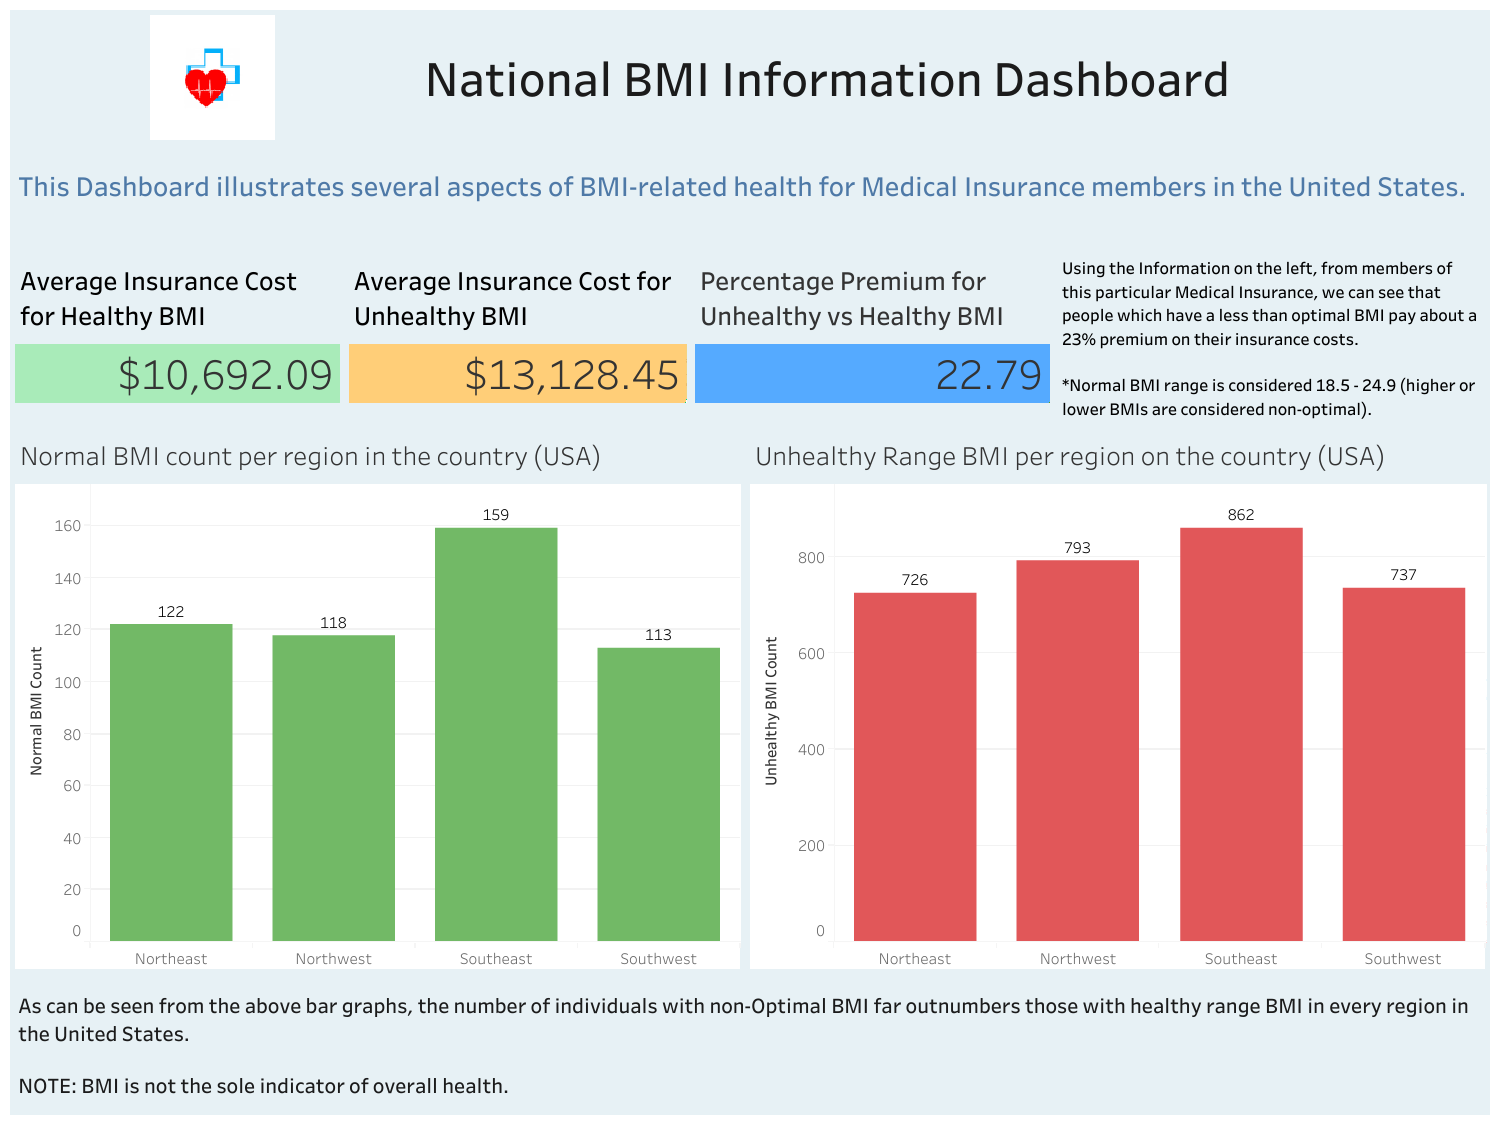

The page's visual inventory and layout, read from the dashboard file:
{"tool":"tableau","page":{"name":"Dashboard 1","canvas":[1200,900],"ordinal":0},"visuals":[{"type":"image","param":"Image/health-logo-design-template-413edd6c579e1c7ac61e14ffdd75eec5_screen.jpg","box":[8,8,325,108]},{"type":"text","box":[333,8,859,108]},{"type":"text","box":[8,116,1184,65]},{"type":"worksheet","title":"Sheet 3","mark":"Automatic","box":[8,200,267,133]},{"type":"worksheet","title":"Sheet 4","mark":"Automatic","box":[275,200,277,133]},{"type":"worksheet","title":"Sheet 5","mark":"Automatic","box":[552,200,291,133]},{"type":"text","box":[843,200,349,133]},{"type":"worksheet","title":"Sheet 1","mark":"Automatic","rows":["Normal BMI Count"],"cols":["Region"],"box":[8,333,588.5,446]},{"type":"worksheet","title":"Sheet 2","mark":"Automatic","rows":["Unhealthy BMI Count"],"cols":["Region (unhealthy BMI count for dashboard.csv)"],"box":[596.5,333,595.5,446]},{"type":"text","box":[8,779,1184,113]}]}

Visuals, with their boxes in screenshot pixels (x1, y1, x2, y2), scaled from the page's 1200x900 canvas onto the 1499x1124 screenshot:
image: [left=10, top=10, right=416, bottom=145]
text: [left=416, top=10, right=1489, bottom=145]
text: [left=10, top=145, right=1489, bottom=226]
"Sheet 3" worksheet: [left=10, top=250, right=344, bottom=416]
"Sheet 4" worksheet: [left=344, top=250, right=690, bottom=416]
"Sheet 5" worksheet: [left=690, top=250, right=1053, bottom=416]
text: [left=1053, top=250, right=1489, bottom=416]
"Sheet 1" worksheet: [left=10, top=416, right=745, bottom=973]
"Sheet 2" worksheet: [left=745, top=416, right=1489, bottom=973]
text: [left=10, top=973, right=1489, bottom=1114]
